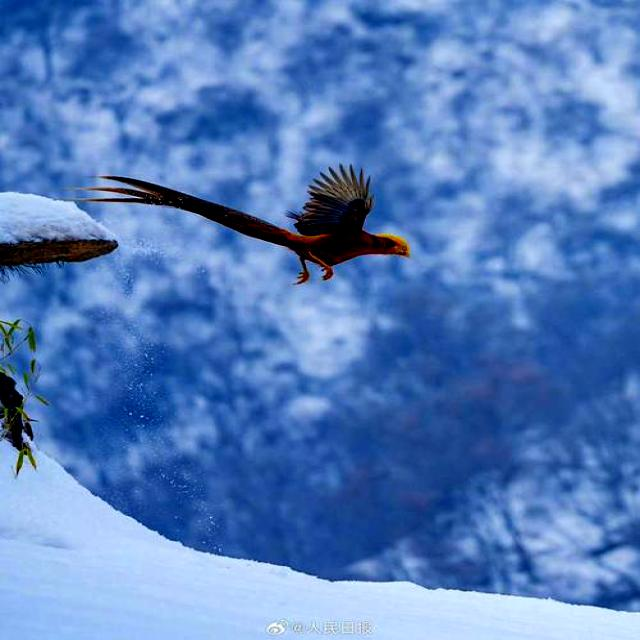Chrysolophus pictus feather: (62, 176, 289, 245)
